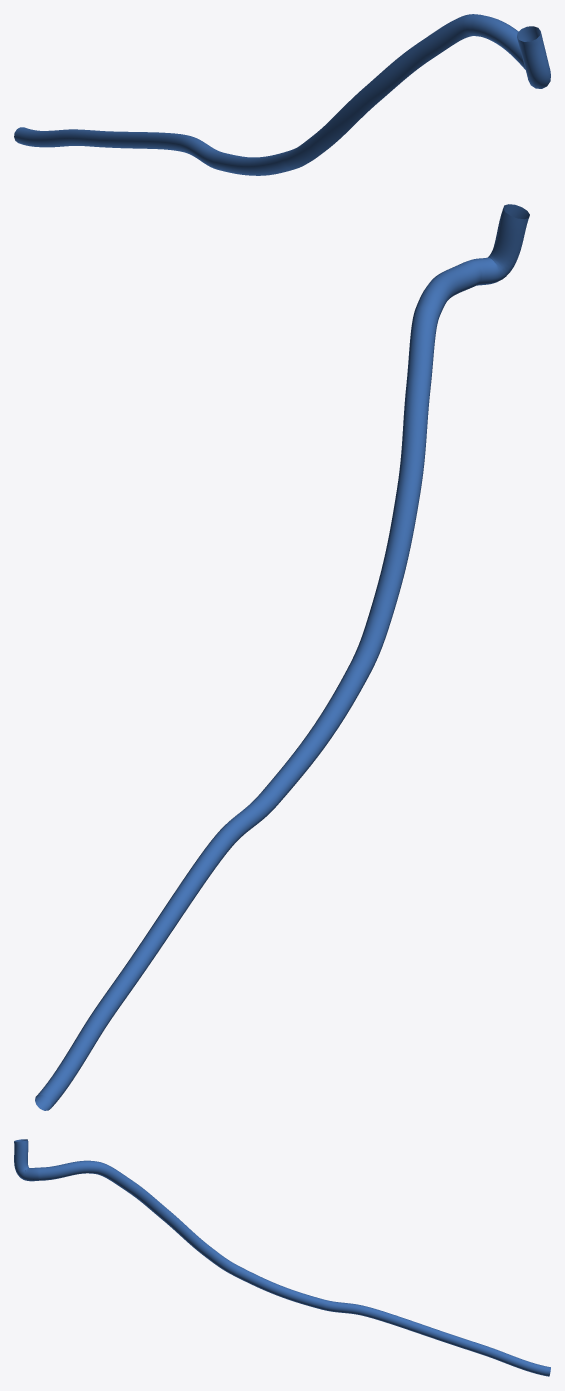
3 renders of one model, top to bottom at view 1: azimuth 30°, elevation 25°; view 2: azimuth 150°, elevation 25°; view 3: azimuth 270°, elevation 25°, orthographic. The views are drawn at different scales.
Parts seen in each view (by area): view 1: 左侧胸廓内静脉; view 2: 左侧胸廓内静脉; view 3: 左侧胸廓内静脉.
Boxes of the visible parts, x1=… form: 左侧胸廓内静脉: x1=14, y1=14, x2=550, y2=175; 左侧胸廓内静脉: x1=35, y1=204, x2=529, y2=1110; 左侧胸廓内静脉: x1=14, y1=1139, x2=550, y2=1376.
Bounding box in the file's own units: 0.0241 × 0.1093 × 0.2116.
